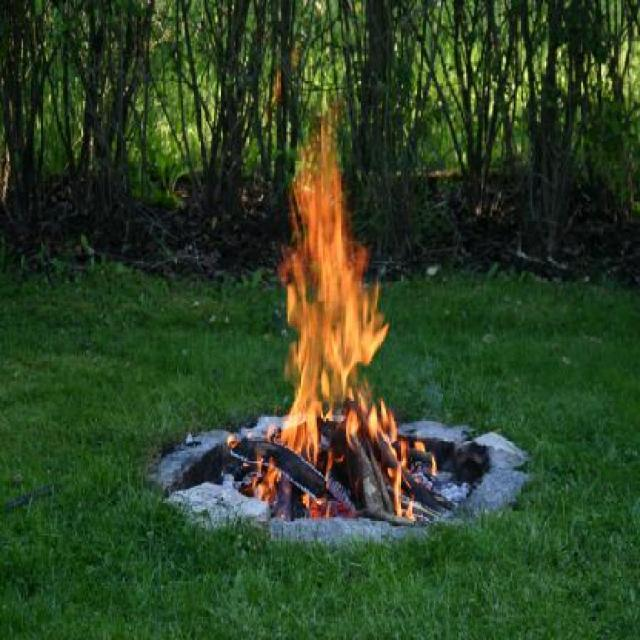Fire: (278, 151, 402, 450)
